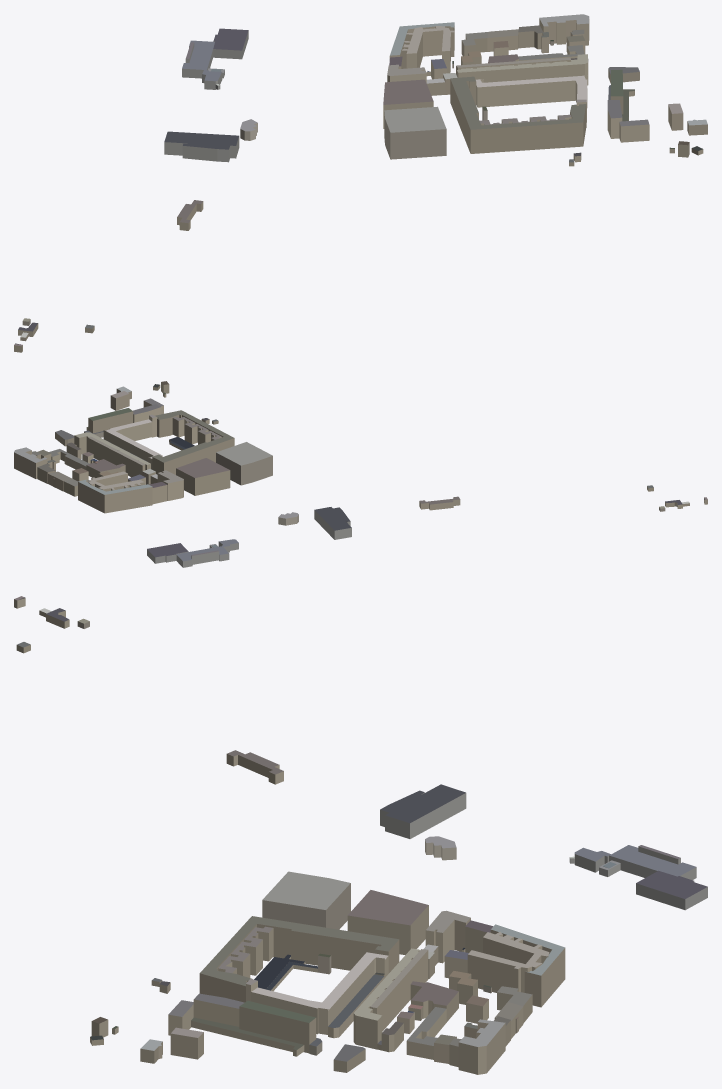
3 renders of one model, top to bottom at view 1: azimuth 30°, elevation 25°; view 2: azimuth 150°, elevation 25°; view 3: azimuth 270°, elevation 25°, orthographic. The views are drawn at different scales.
Visible parts, largest first — view 1: tuile; view 2: tuile; view 3: tuile.
Part boxes in pixels (x1=…): tuile: x1=14, y1=14, x2=707, y2=352; tuile: x1=14, y1=381, x2=707, y2=567; tuile: x1=14, y1=596, x2=707, y2=1074.
Size of the model in its own units: 921 by 31.6 by 576.
